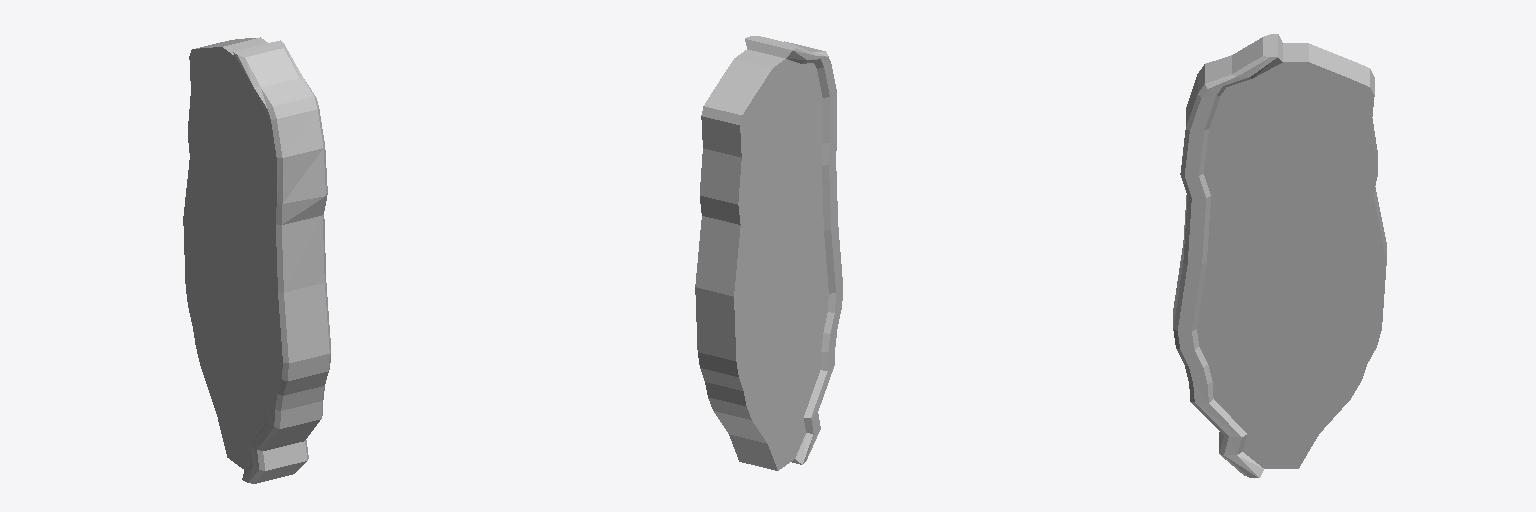
File: meet.obj
The picture shows the model from 3 angles: view 1: azimuth 30°, elevation 25°; view 2: azimuth 150°, elevation 25°; view 3: azimuth 270°, elevation 25°; orthographic projection.
Parts seen in each view (by area): view 1: Carne; view 2: Carne; view 3: Carne.
Part boxes in pixels (left/top/right/bottom): Carne: left=183, top=37, right=330, bottom=483; Carne: left=695, top=36, right=842, bottom=470; Carne: left=1173, top=34, right=1386, bottom=477.
Bounding box in the file's own units: 4.69 × 37.96 × 17.44.